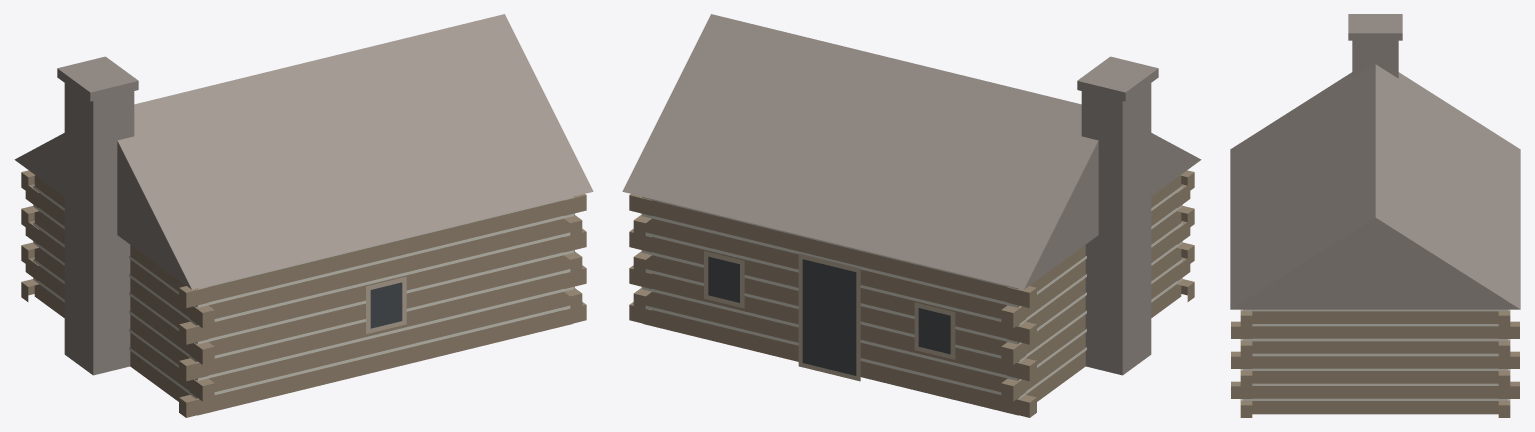
File: chappel_infant_school__log_1833.glb
3 renders of one model, left to right at view 1: azimuth 30°, elevation 25°; view 2: azimuth 150°, elevation 25°; view 3: azimuth 270°, elevation 25°, orthographic. The views are drawn at different scales.
Parts seen in each view (by area): view 1: chappel_infant_school__log_1833; view 2: chappel_infant_school__log_1833; view 3: chappel_infant_school__log_1833.
Boxes of the visible parts, x1,y1,x2,y2 form: chappel_infant_school__log_1833: (14, 14, 593, 417); chappel_infant_school__log_1833: (622, 14, 1201, 417); chappel_infant_school__log_1833: (1230, 14, 1520, 417).
Size of the model in its own units: 8.39 by 5.38 by 5.99.
